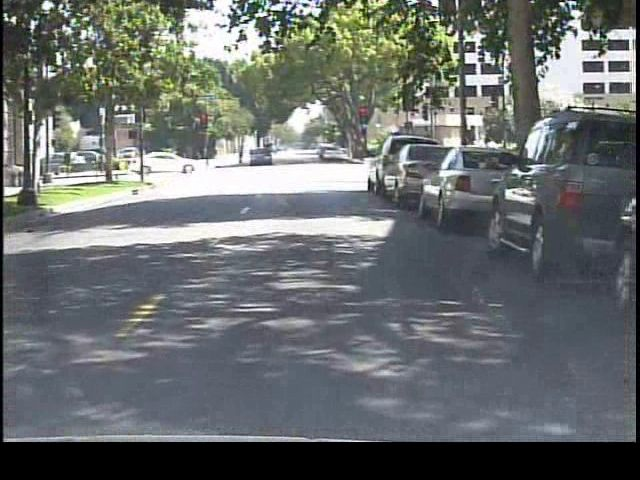person: (236, 140, 251, 166)
